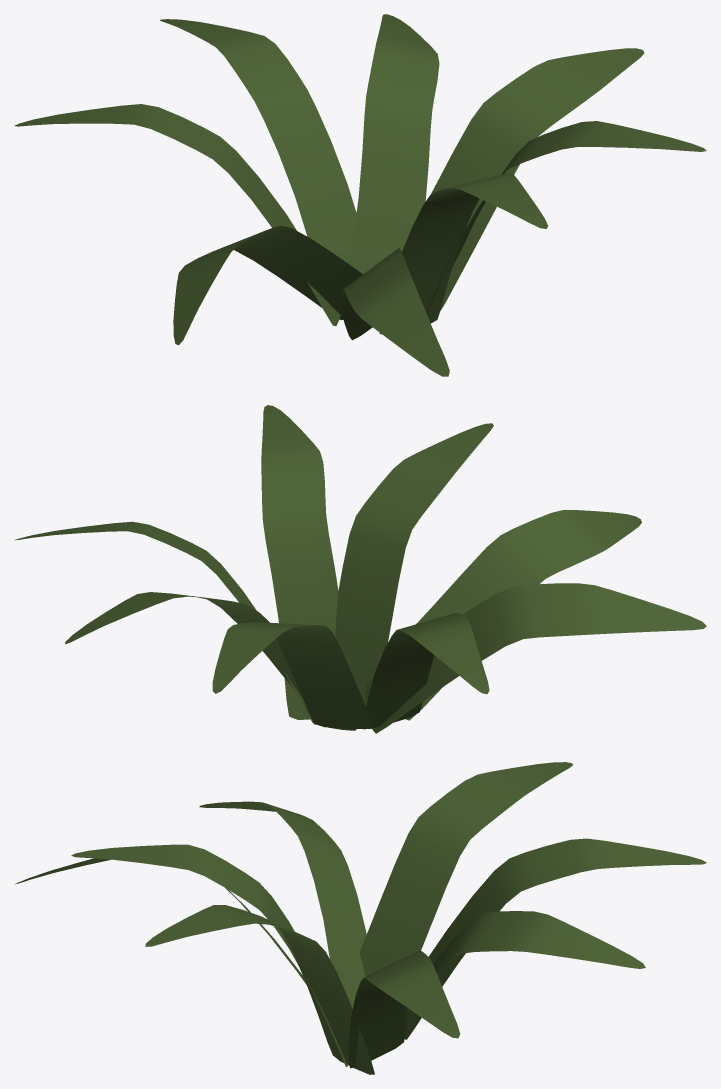
The model's file is PetiteHerbe.fbx.
3 views of the same model, one above another, from view 1: azimuth 30°, elevation 25°; view 2: azimuth 150°, elevation 25°; view 3: azimuth 270°, elevation 25° (orthographic). The views are drawn at different scales.
Visible parts, largest first — view 1: Plane; view 2: Plane; view 3: Plane.
Part boxes in pixels (x1,y1,x2,y2): Plane: (14, 14, 706, 376); Plane: (14, 405, 706, 733); Plane: (15, 762, 706, 1074).
Bounding box in the file's own units: 105 × 35.77 × 112.
